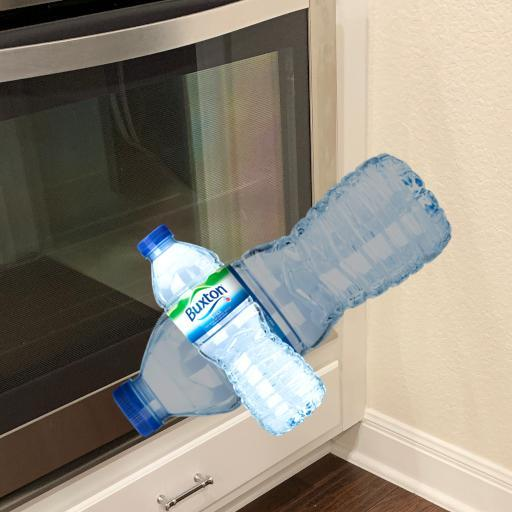bottle: (66, 151, 451, 444)
